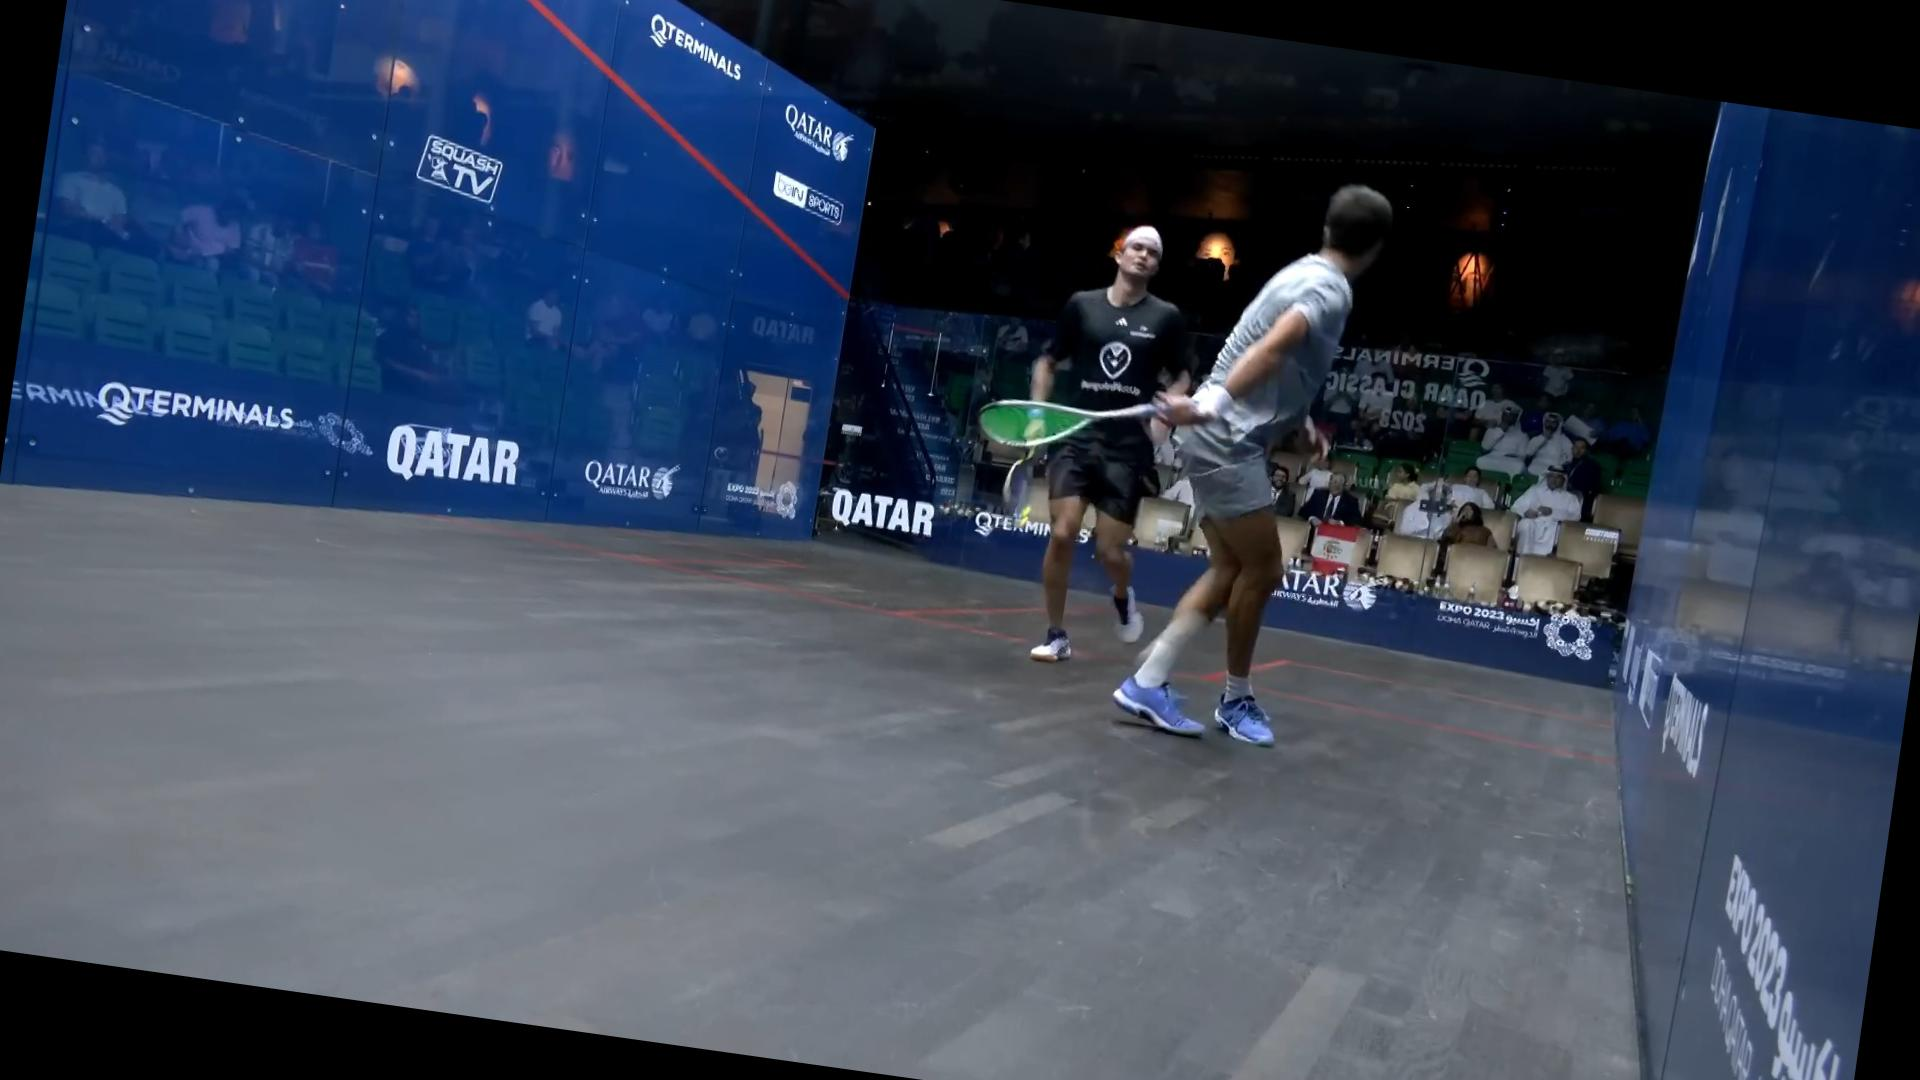Racket: (960, 372, 1163, 468)
